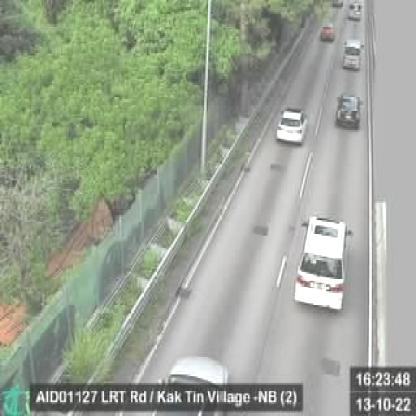Car: (291, 215, 351, 312), (276, 106, 309, 144), (335, 93, 364, 130), (342, 38, 365, 70), (320, 22, 335, 41), (349, 0, 363, 18)
